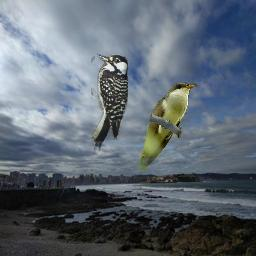Cuckoo: (137, 82, 198, 171)
Woodpecker: (91, 53, 128, 153)
